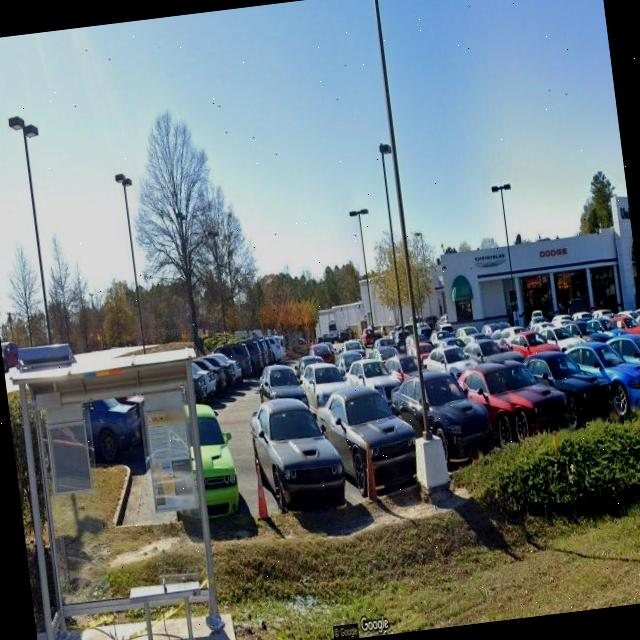seating: (126, 572, 209, 640)
shelter: (6, 333, 233, 640)
